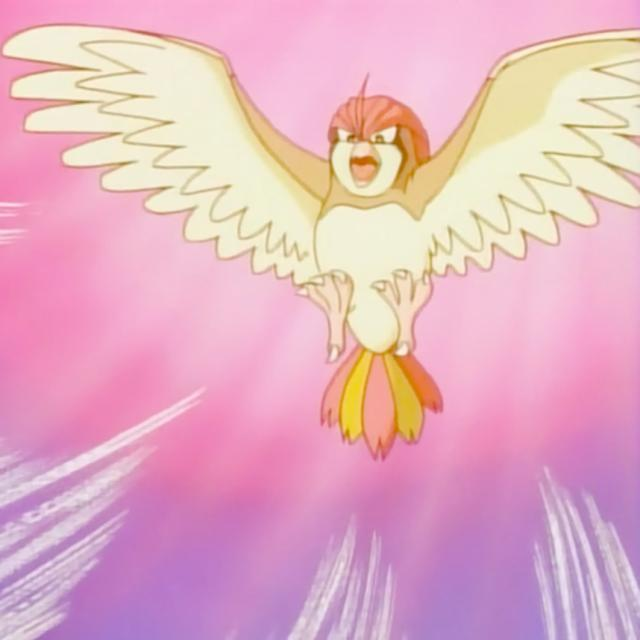Pidgeotto: (223, 67, 512, 463)
